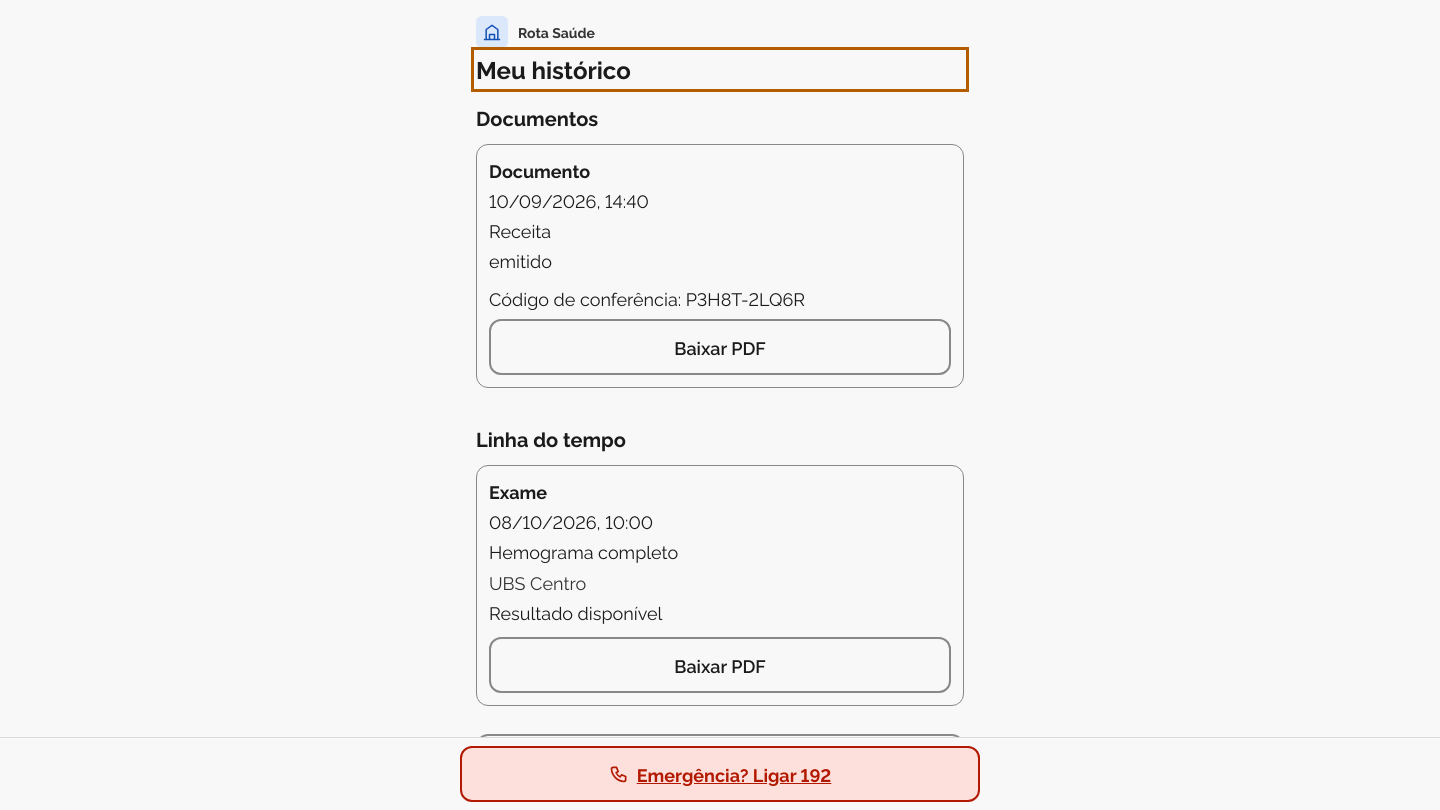
Test case: MyHistoryStep — exames (módulo 21a) › exame que sumiu na linha do tempo: a frase do exame, não a do documento
This screenshot has width=1440, height=810.
What coordinates should you click on to do the following:
click the button with aria-label "Baixar PDF de Hemograma completo"
I would click on:
 (720, 665)
Its box is [489,637,951,693].
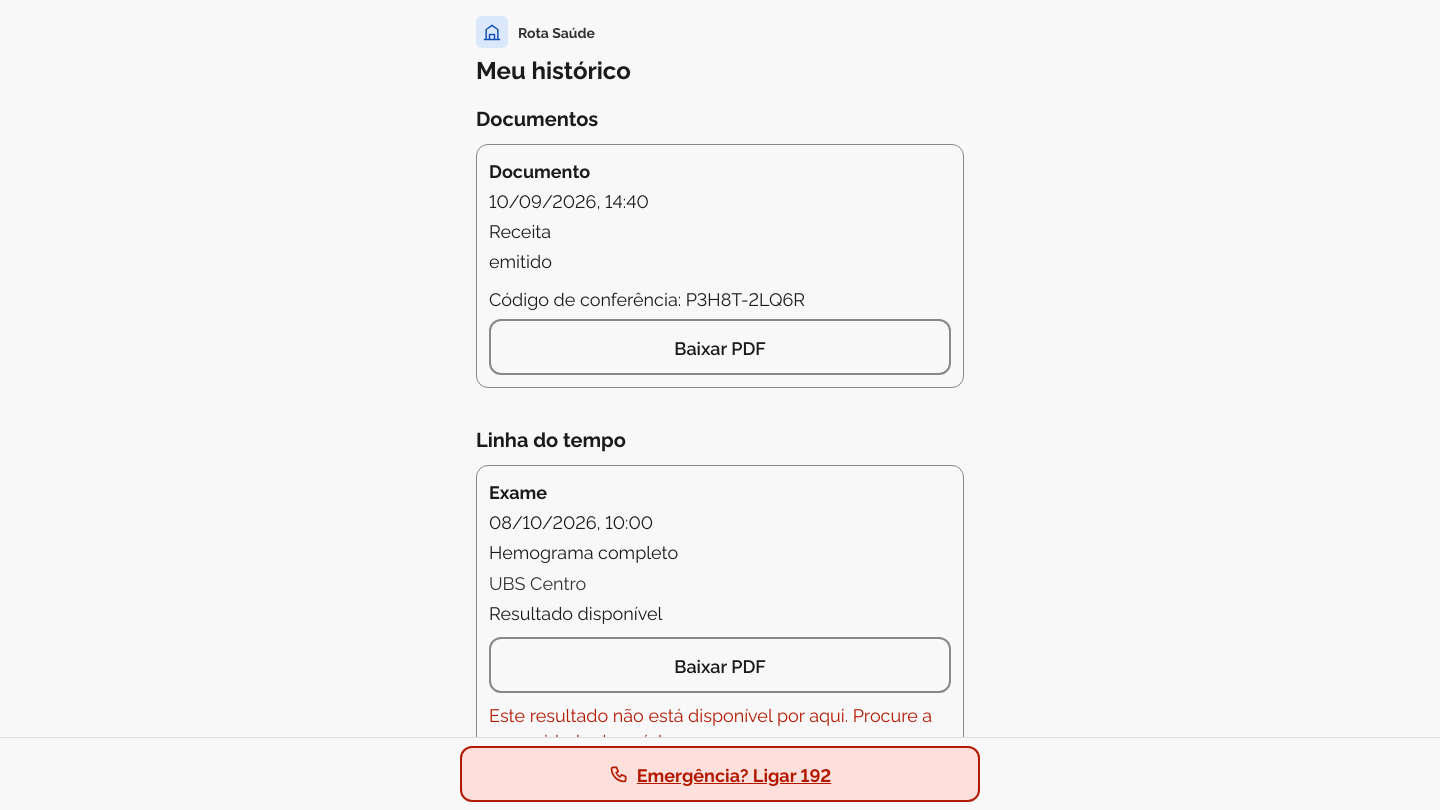
expect the message reads "Este resultado não está disponível por aqui. Procure a sua unidade de saúde.": met, box [489,701,932,752]
